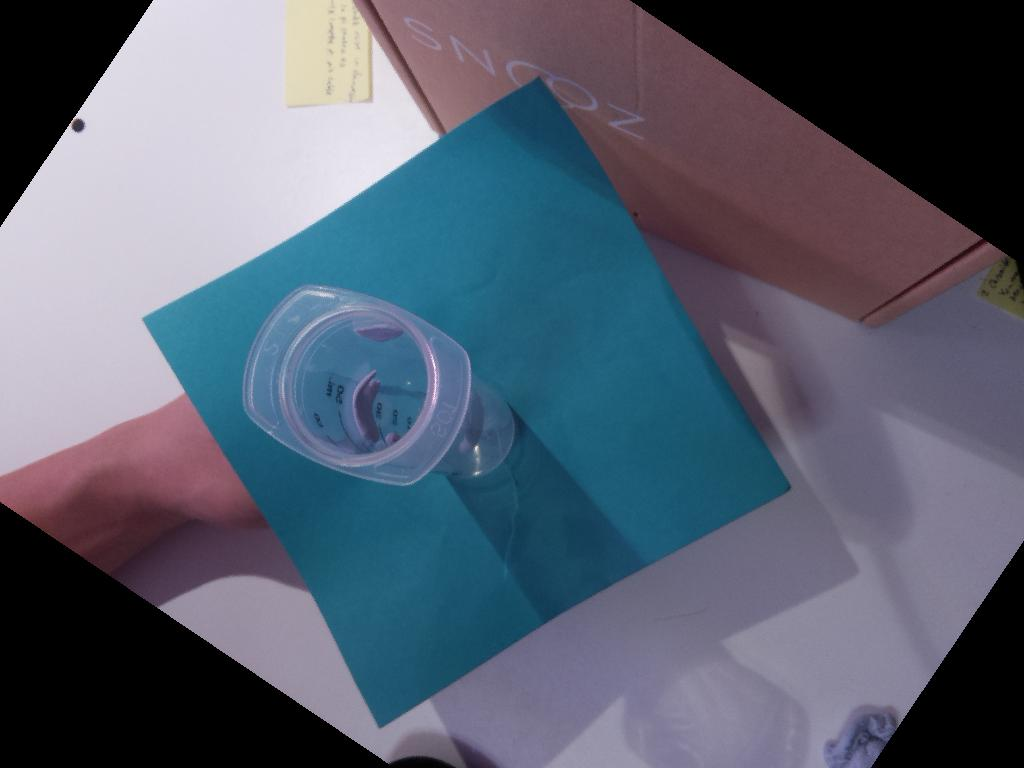dirty: (242, 284, 472, 486)
